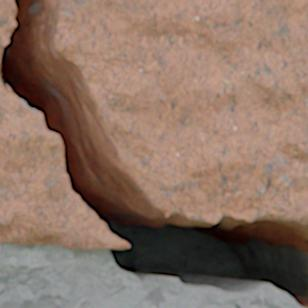broken_brick: (56, 0, 307, 229), (0, 0, 128, 249)
crack: (1, 0, 307, 307)
